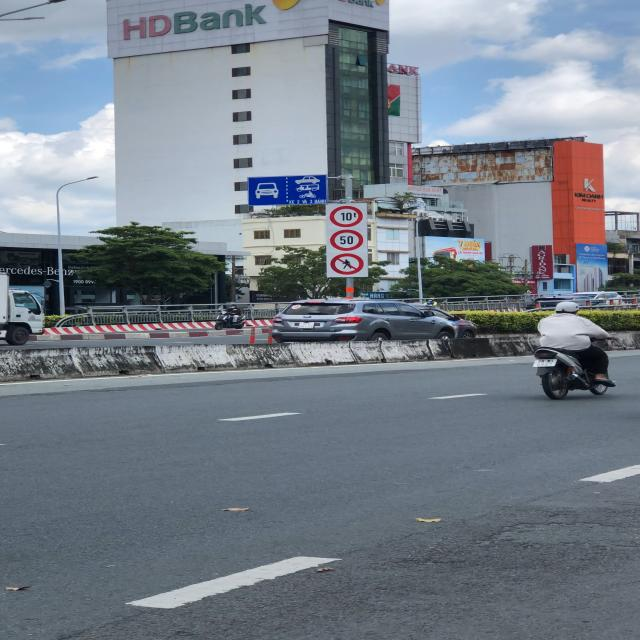Bien bao toc do toi da cho phep: (329, 226, 364, 252)
